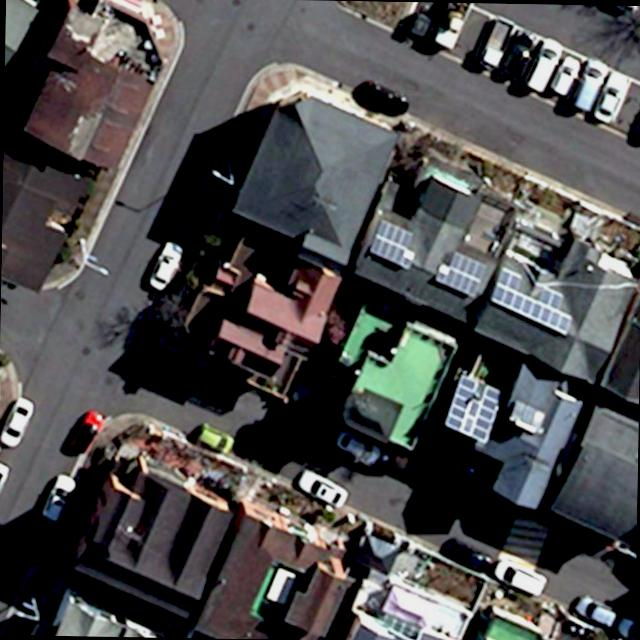solar: (483, 270, 580, 336), (442, 369, 503, 446), (432, 248, 488, 299), (369, 221, 417, 269)
